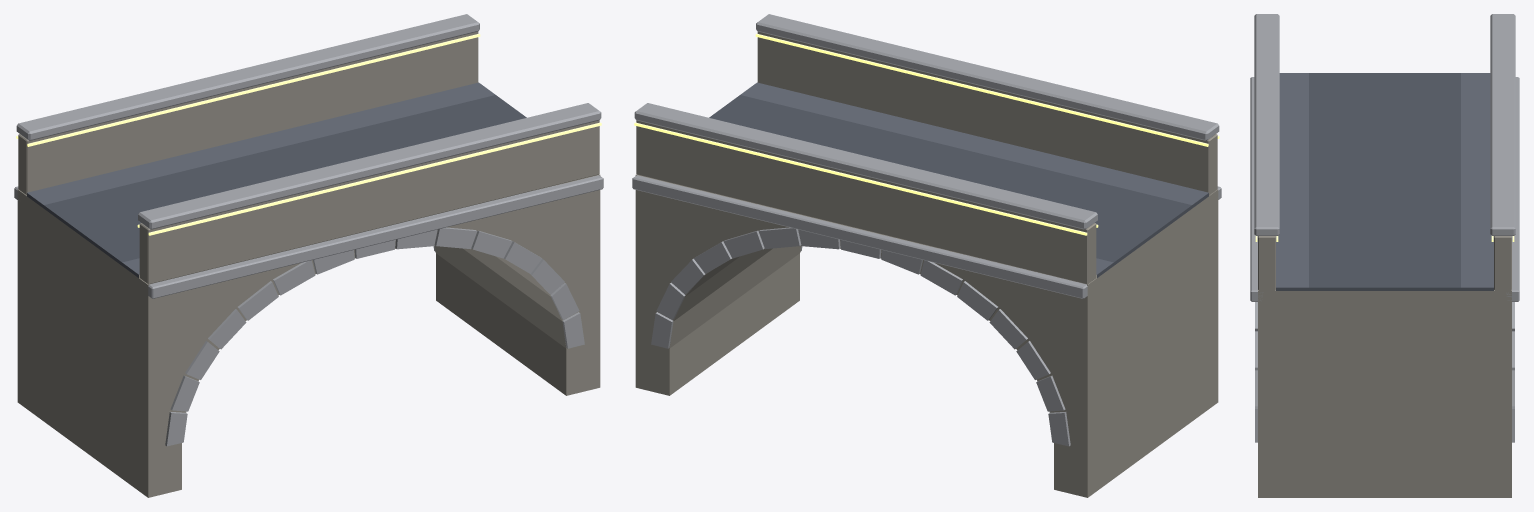
The model's file is bridge_span.glb.
3 views of the same model, side by side, from view 1: azimuth 30°, elevation 25°; view 2: azimuth 150°, elevation 25°; view 3: azimuth 270°, elevation 25° (orthographic). The views are drawn at different scales.
Parts seen in each view (by area): view 1: span, lights; view 2: span, lights; view 3: span.
Part boxes in pixels (box(x1,y1,x2,y2)): span: box(14, 14, 603, 497); lights: box(16, 33, 601, 235); span: box(632, 14, 1221, 497); lights: box(634, 33, 1219, 235); span: box(1250, 14, 1519, 497).
Bounding box in the file's own units: 8 × 4.7 × 4.24.
